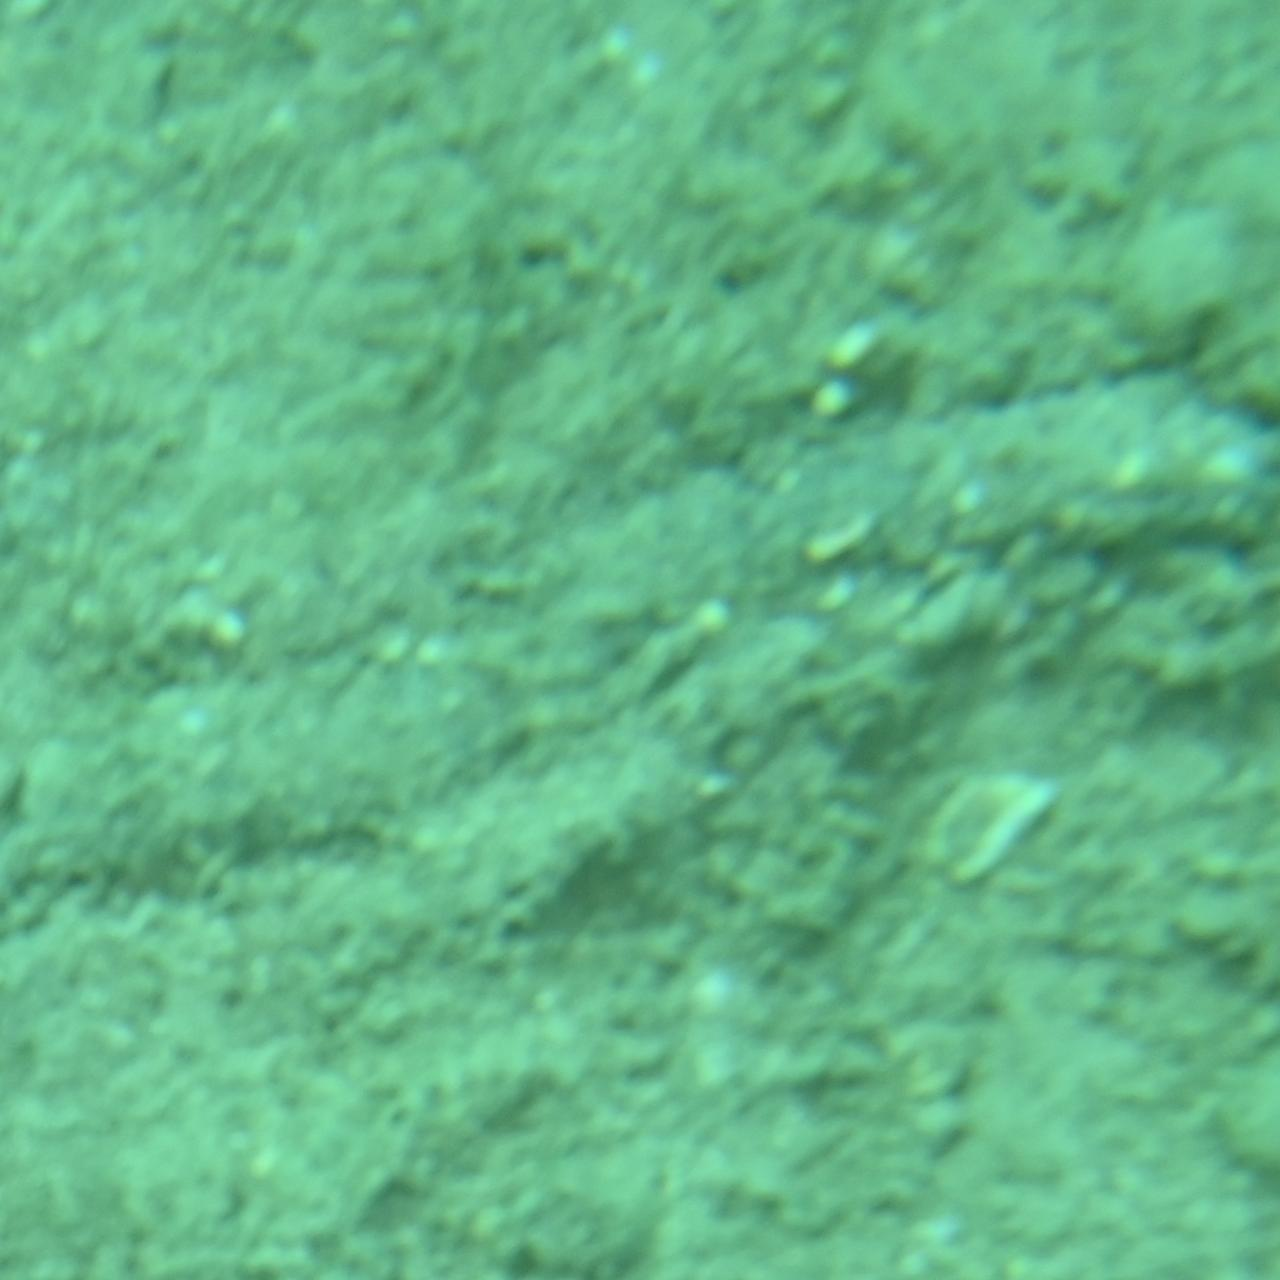Holothuria tubulosa: (0, 356, 1280, 924)
